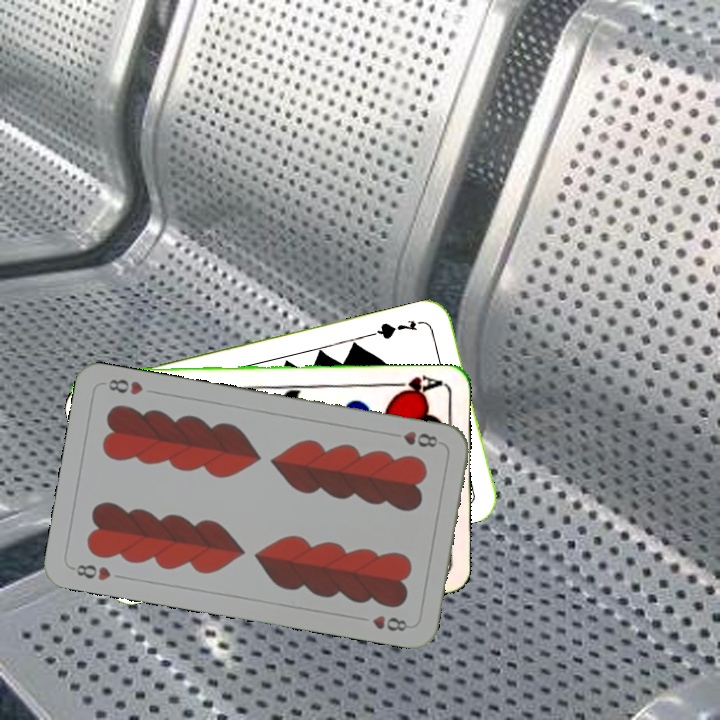G7: (370, 315, 419, 342)
H8: (67, 560, 114, 584), (399, 427, 440, 450)
HA: (385, 372, 444, 399)
